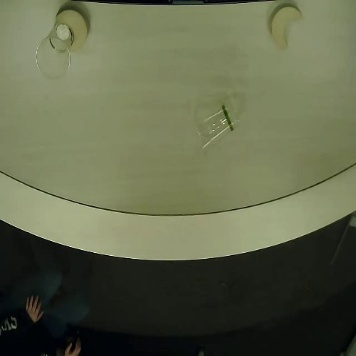empty_cup: (31, 22, 77, 81), (196, 104, 244, 158)
puck: (52, 5, 91, 54), (266, 1, 305, 50)
